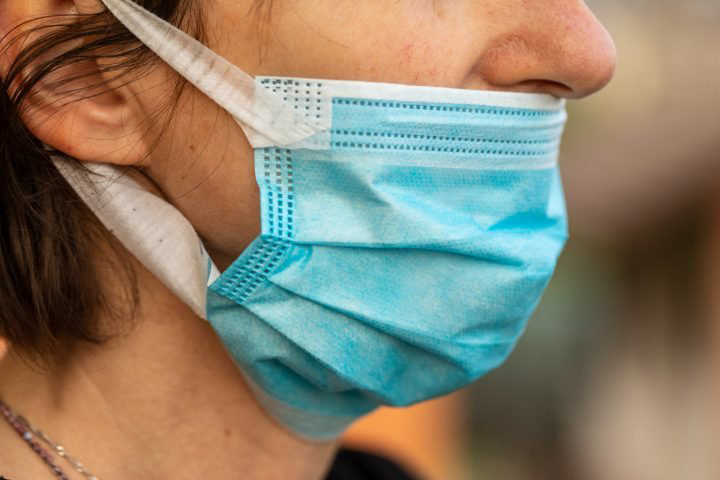mask_weared_incorrect: (206, 1, 621, 453)
